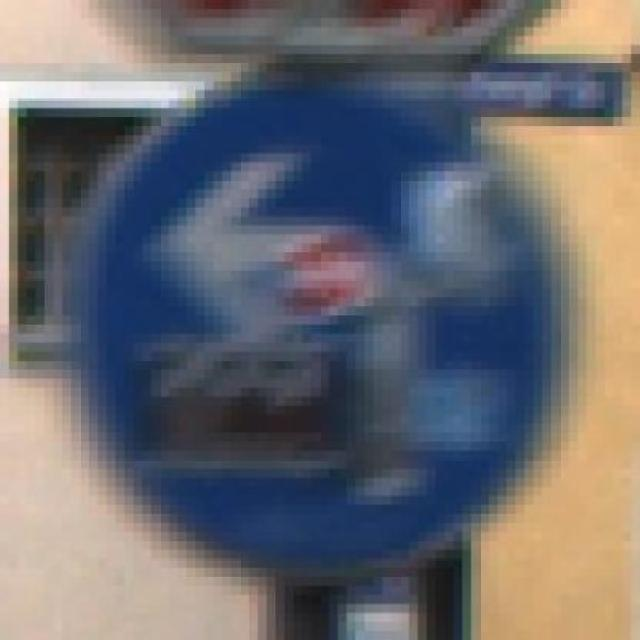Turn left ahead: (80, 54, 560, 577)
